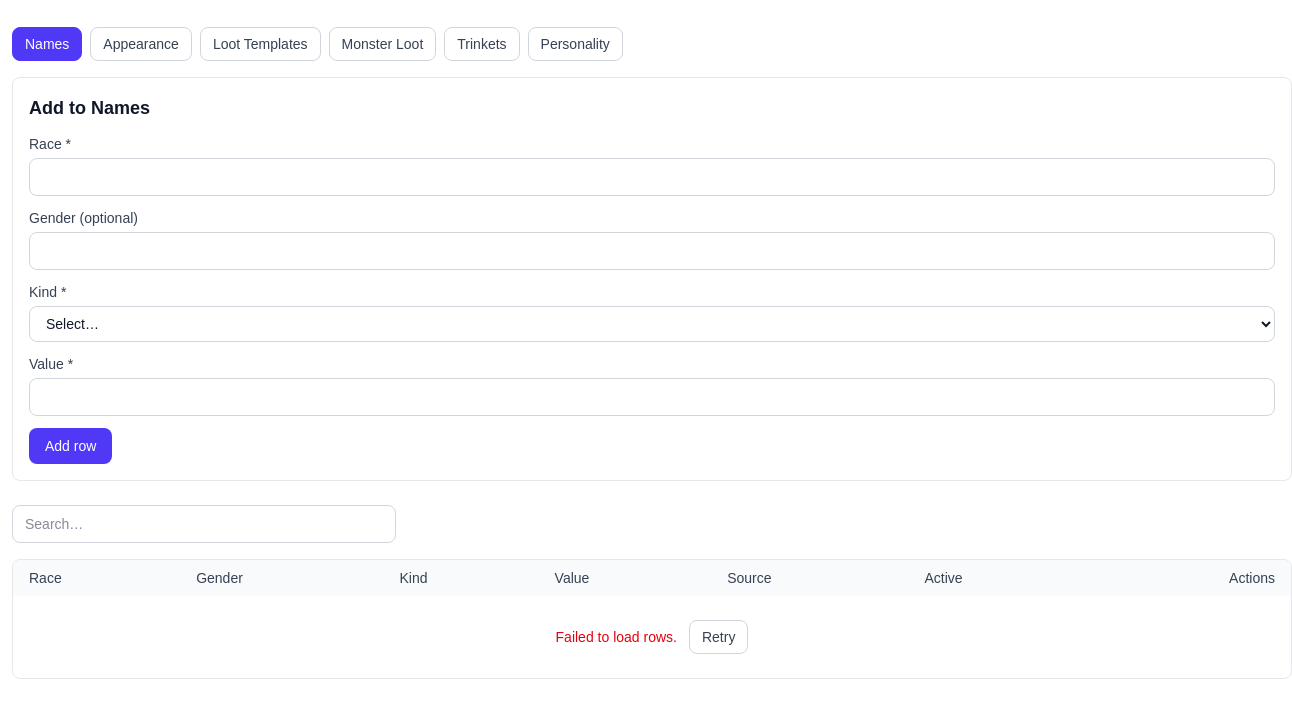
it: AdminNpcDataPage › shows a retryable error row when the load fails
This screenshot has width=1292, height=703.
(page scrolled)
Expected: the message shows "Failed to load rows.", [556,629,677,645]
Expected: the table is shown, [556,620,748,654]
Step 1. Click the button "Retry" → (719, 637), box [689,620,748,654]
(page scrolled)
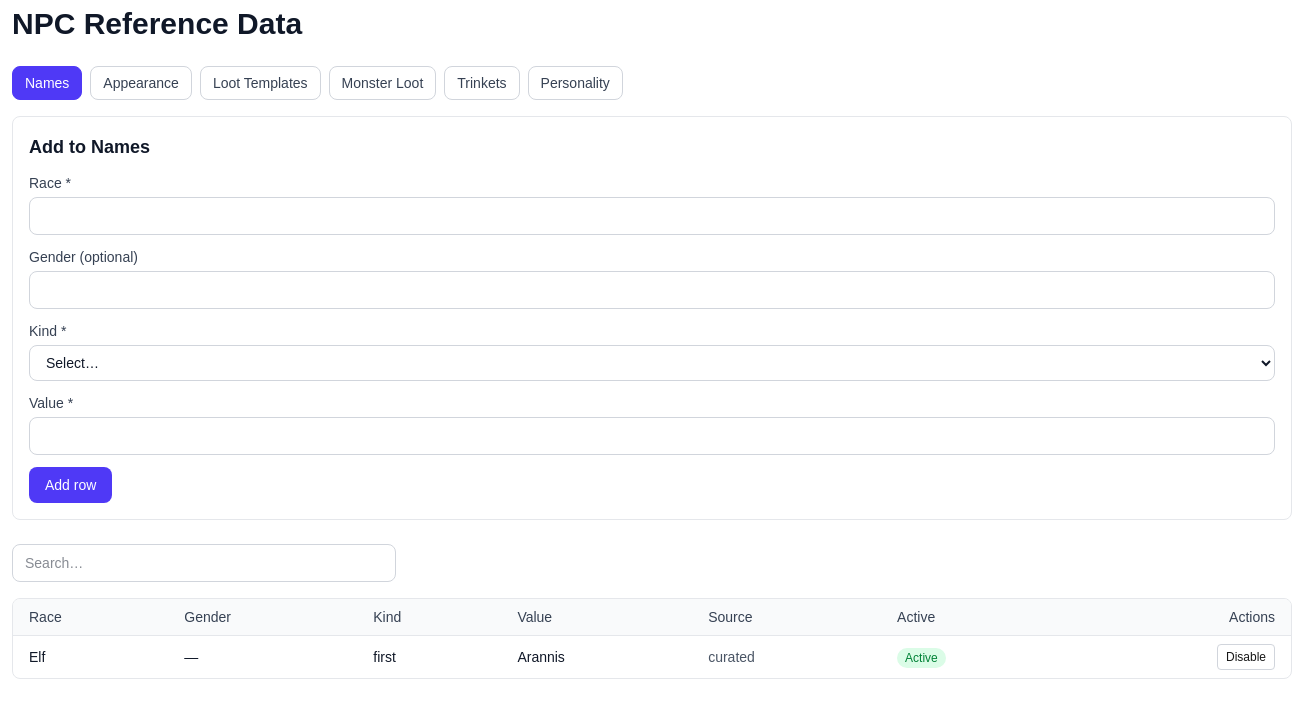
Now the text "Arannis" is shown, box [501,636,692,678]
Now the message "Failed to load rows. Retry" is gone
